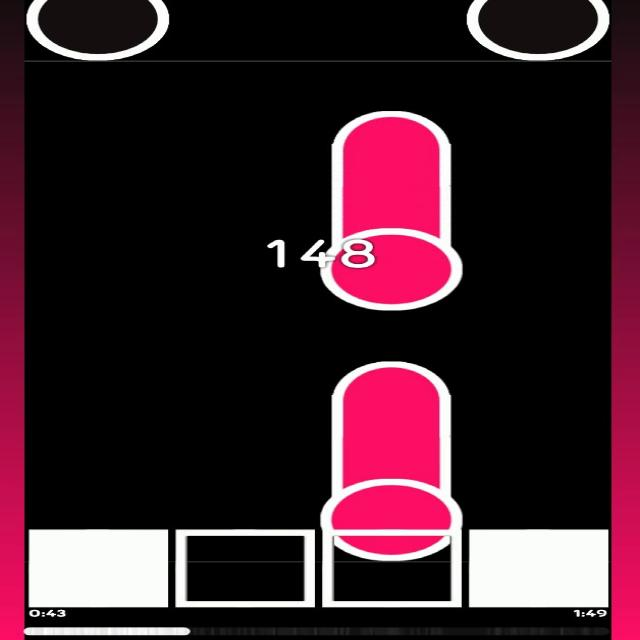end_hold: (328, 102, 454, 157), (328, 352, 458, 404)
note: (26, 0, 168, 61), (466, 0, 608, 59)
start_hold: (316, 212, 466, 311), (324, 462, 464, 562)
